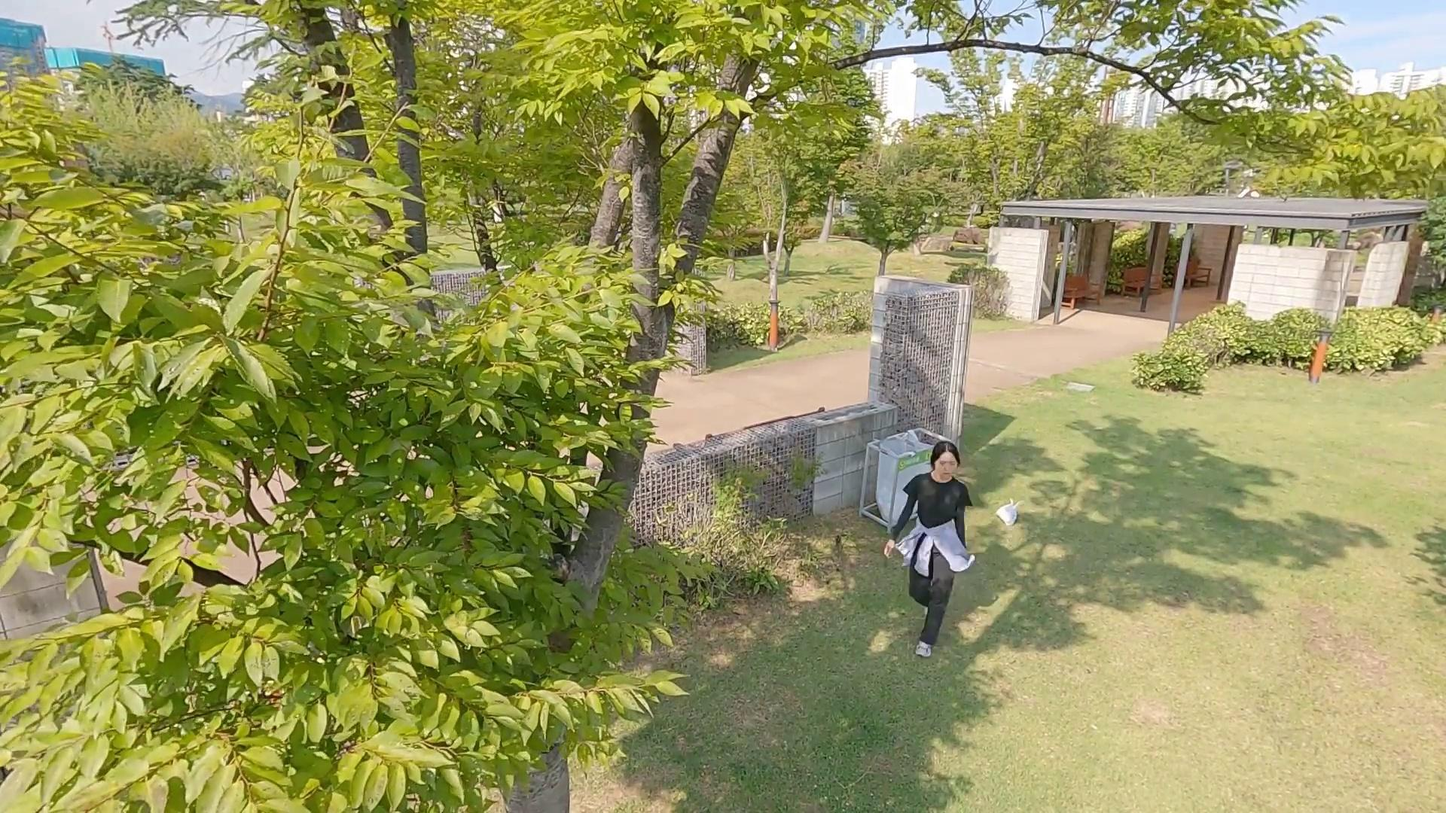person: (887, 438, 974, 661)
trash: (995, 495, 1023, 529)
